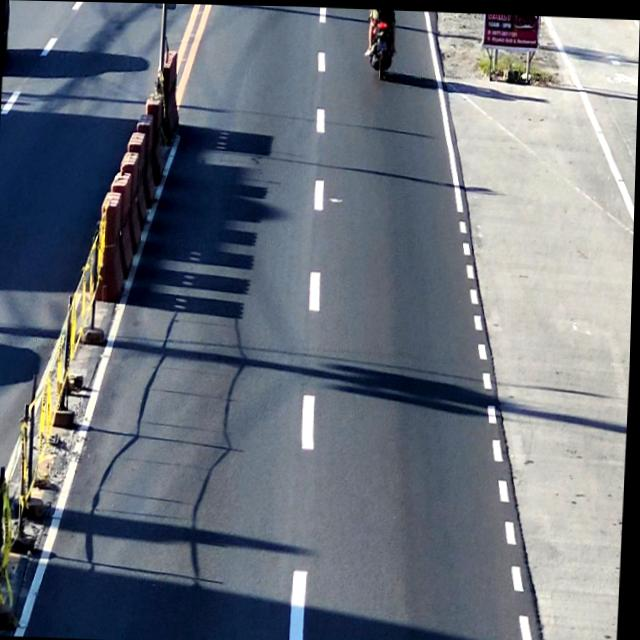Motorcycle: (363, 7, 399, 80)
